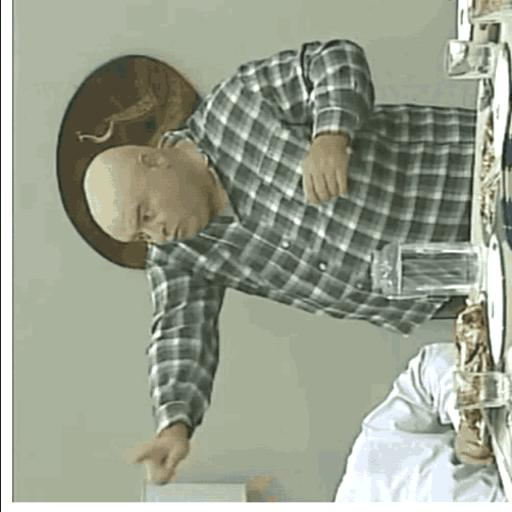sboui: (84, 140, 224, 244)
